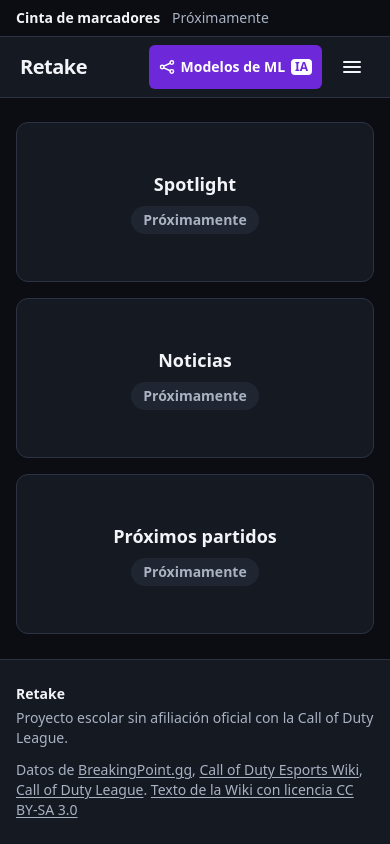
Test: menú plegado (RF-16 a RF-22, RF-82, RF-83) › abre un panel con las ocho entradas en orden y el selector de idioma al final
Click the button named "menú". click: (352, 67)
box: top-left (330, 45), bottom-right (374, 89)
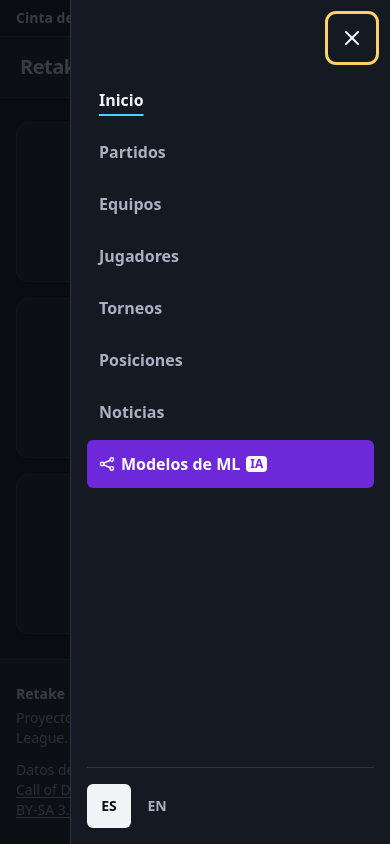
Now the button named "Cerrar menú" below "Saltar al contenido" is shown, box top-left (330, 45), bottom-right (374, 89)
